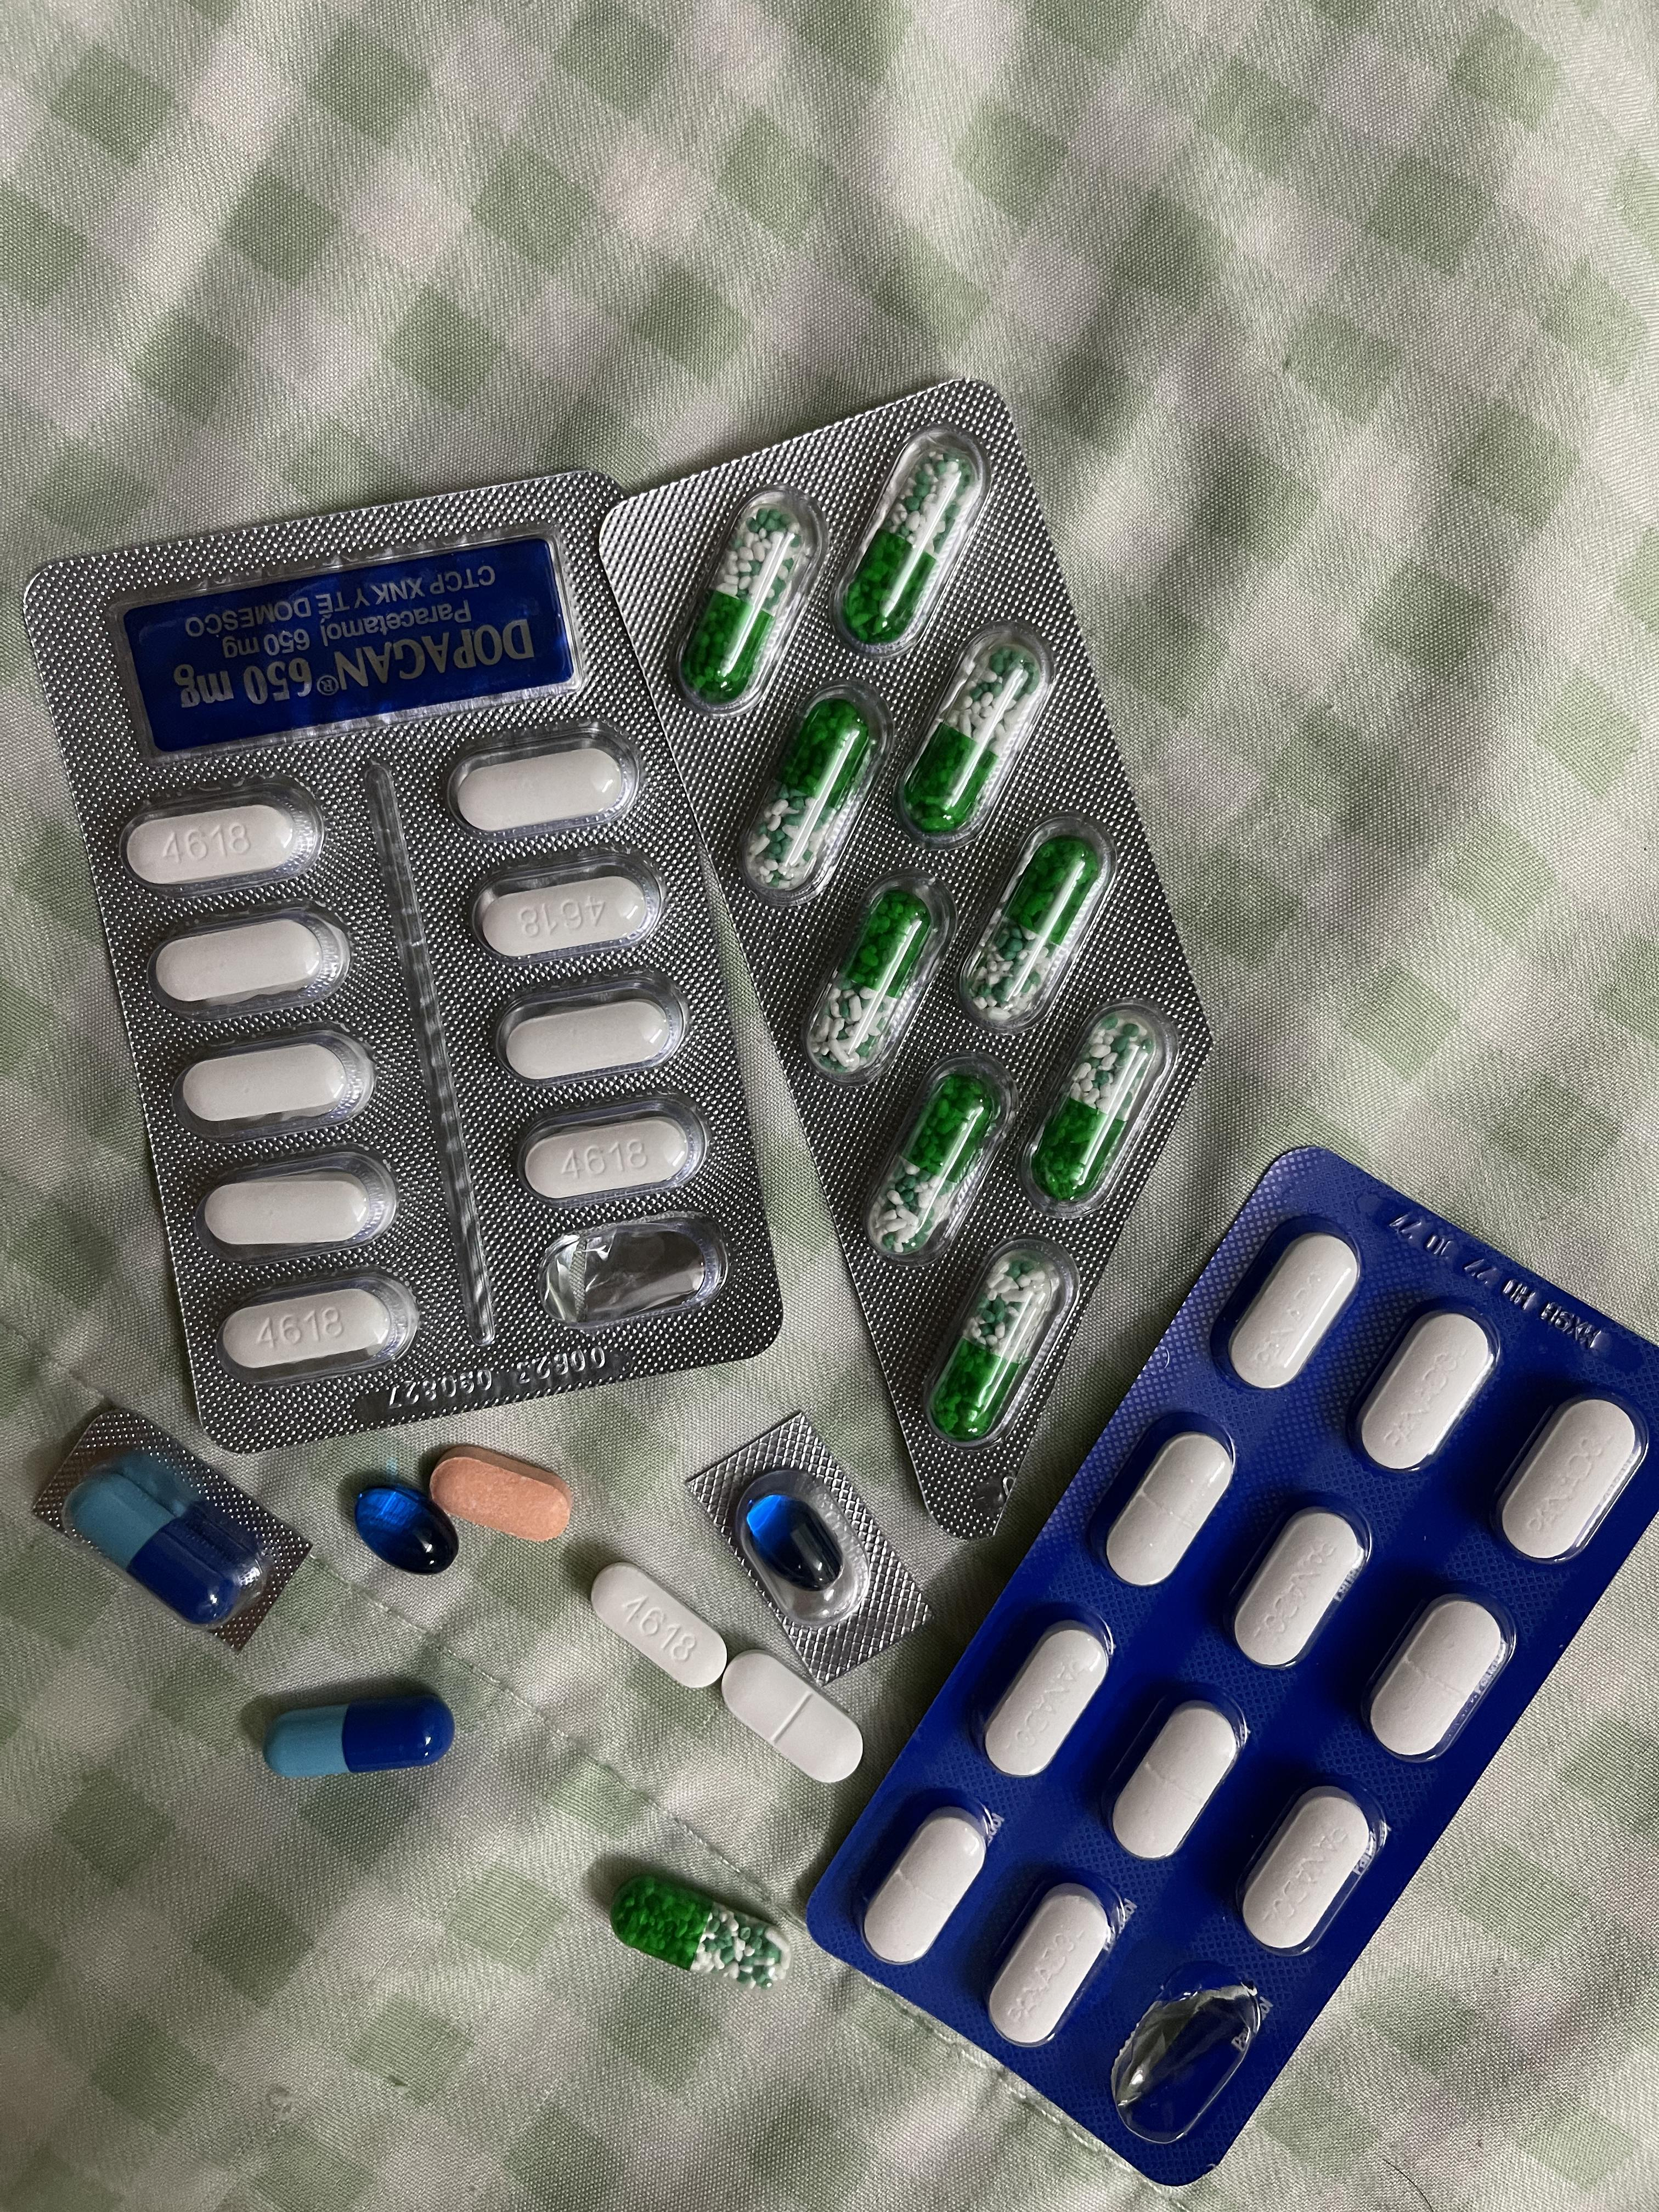Lincomyxin_500mg: (355, 1482, 465, 1578), (749, 1494, 844, 1593)
Loratadine_10mg: (430, 1447, 582, 1545)
Paracetamol_350mg: (1491, 1395, 1648, 1567), (1363, 1589, 1514, 1767), (1353, 1305, 1505, 1476), (1239, 1784, 1384, 1962), (1224, 1499, 1372, 1674), (1108, 1688, 1246, 1866), (1097, 1423, 1237, 1591), (1221, 1229, 1365, 1390), (986, 1878, 1120, 2050), (863, 1799, 996, 1970), (978, 1614, 1114, 1780), (721, 1650, 867, 1782)
Paracetamol_500mg: (177, 1033, 373, 1130), (219, 1282, 411, 1378), (151, 916, 339, 1009), (476, 870, 658, 963), (599, 1561, 730, 1690), (128, 800, 313, 889), (450, 746, 629, 833), (502, 999, 679, 1085), (200, 1171, 388, 1251), (523, 1116, 691, 1202)
Paracetamol_650mg: (840, 445, 974, 647), (899, 645, 1042, 834), (686, 496, 807, 696), (961, 837, 1097, 1013), (753, 695, 876, 888), (1028, 1015, 1154, 1203), (810, 887, 935, 1073), (930, 1252, 1059, 1431), (872, 1069, 997, 1247), (610, 1873, 781, 1987)
pill: (68, 1452, 271, 1624), (263, 1697, 462, 1781)
